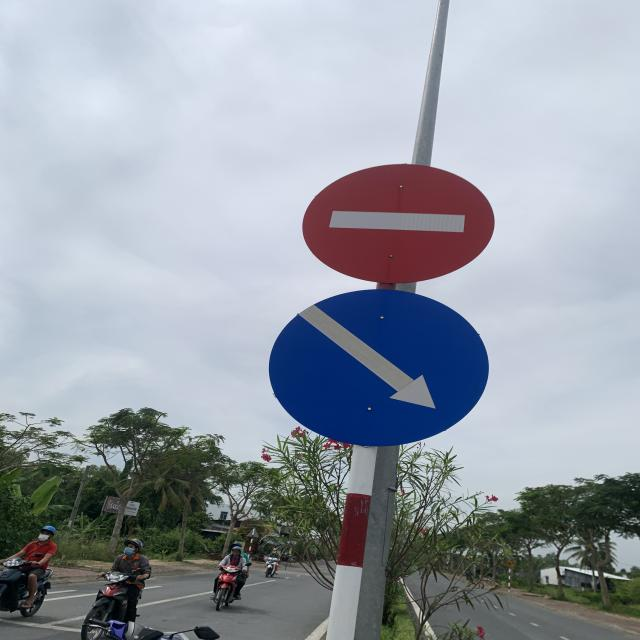Cam_Di_Nguoc_Chieu: (300, 162, 501, 285)
Chi_Huong_Di_Phai: (267, 287, 491, 448)
